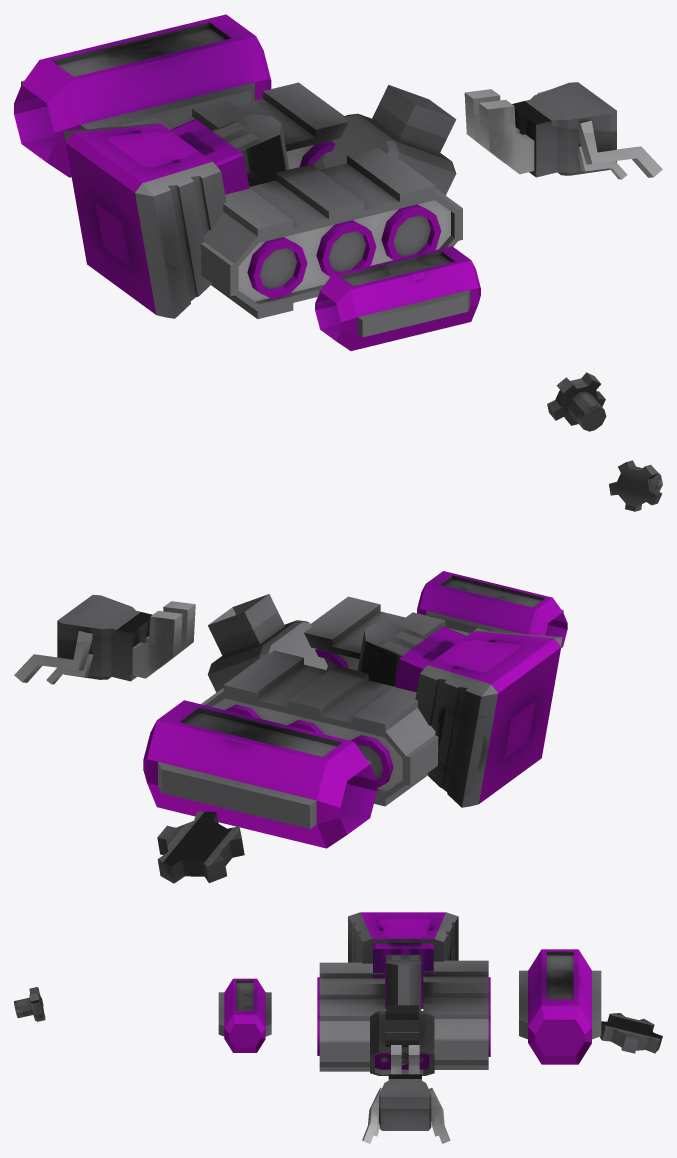
Rendered from Enemy2_Die33.obj.
3 views of the same model, one above another, from view 1: azimuth 30°, elevation 25°; view 2: azimuth 150°, elevation 25°; view 3: azimuth 270°, elevation 25° (orthographic). The views are drawn at different scales.
Visible parts, largest first — view 1: Object006, Object013, Object011, Object014, Object010, Object012, Object008; view 2: Object011, Object013, Object006, Object010, Object014, Object012, Object009, Object008; view 3: Object006, Object011, Object013, Object010, Object012, Object014, Object009, Object008.
Part boxes in pixels (box(x1,y1,x2,y2)): Object006: box(120, 82, 462, 318); Object013: box(64, 114, 289, 318); Object011: box(14, 14, 271, 177); Object014: box(315, 246, 480, 350); Object010: box(464, 82, 662, 179); Object012: box(322, 85, 456, 195); Object008: box(547, 372, 606, 431); Object011: box(143, 700, 376, 848); Object013: box(357, 622, 562, 807); Object006: box(201, 596, 488, 806); Object010: box(14, 594, 195, 684); Object014: box(417, 571, 567, 648); Object012: box(207, 594, 327, 692); Object009: box(157, 811, 244, 883); Object008: box(609, 460, 662, 511); Object006: box(317, 960, 490, 1071); Object011: box(519, 949, 601, 1064); Object013: box(348, 912, 458, 1010); Object010: box(362, 1045, 450, 1143); Object012: box(370, 1005, 434, 1075); Object014: box(218, 978, 271, 1052); Object009: box(600, 1013, 662, 1053); Object008: box(14, 987, 45, 1021).
Bounding box in the file's own units: 198 × 50 × 341.
